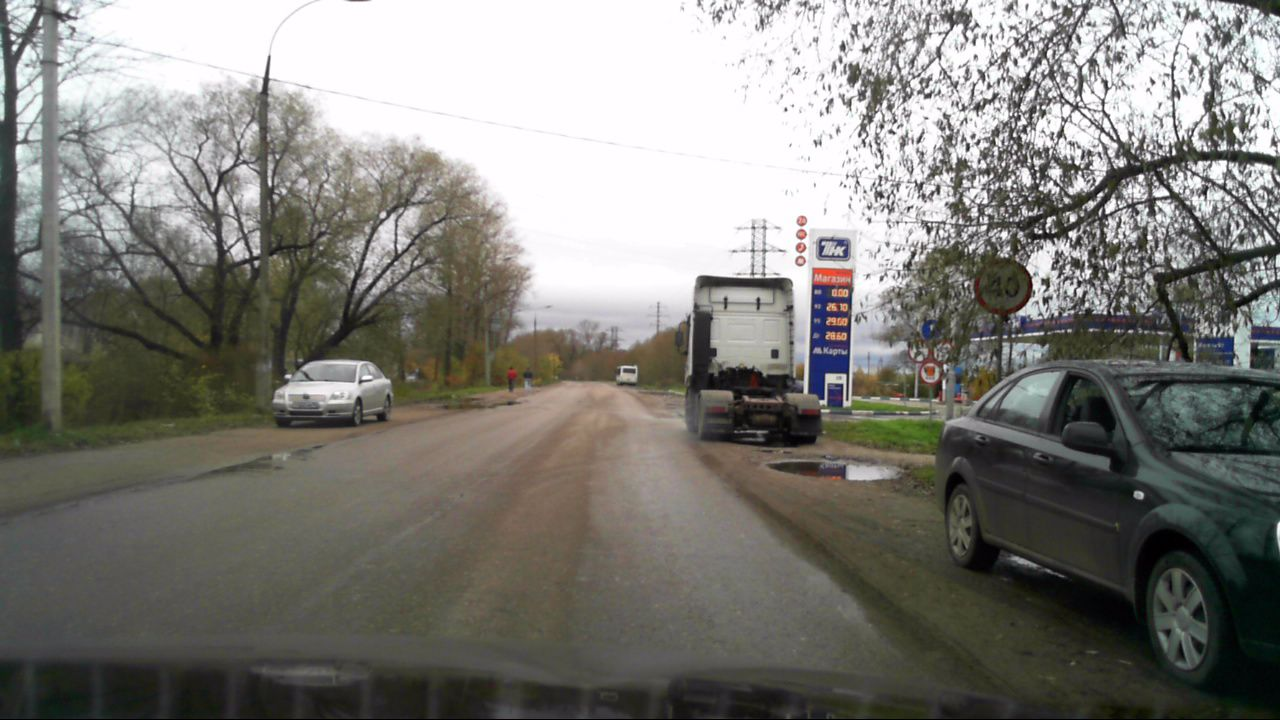speed_warning_40: (973, 259, 1034, 318)
